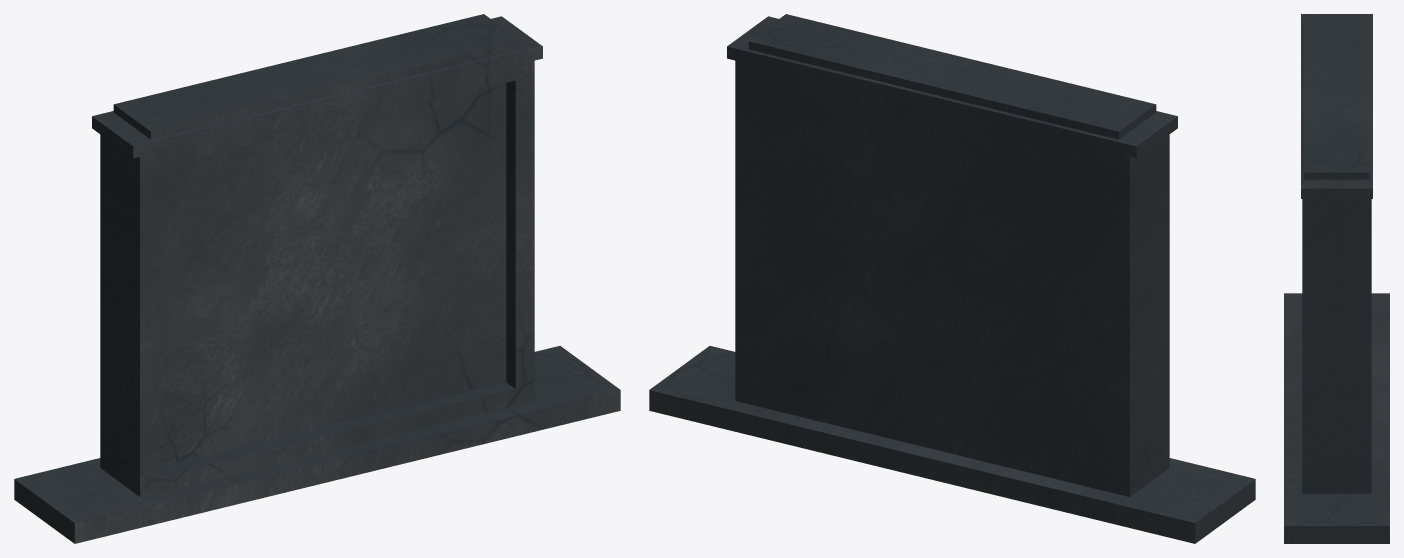
Rendered from Gravestone21_Model.fbx.
3 renders of one model, left to right at view 1: azimuth 30°, elevation 25°; view 2: azimuth 150°, elevation 25°; view 3: azimuth 270°, elevation 25°, orthographic. The views are drawn at different scales.
Parts seen in each view (by area): view 1: Gravestone21_Model; view 2: Gravestone21_Model; view 3: Gravestone21_Model.
Part boxes in pixels (x1,y1,x2,y2): Gravestone21_Model: (14,14,620,543); Gravestone21_Model: (649,14,1255,543); Gravestone21_Model: (1284,14,1389,543).
Size of the model in its own units: 200 by 134 by 38.39.
